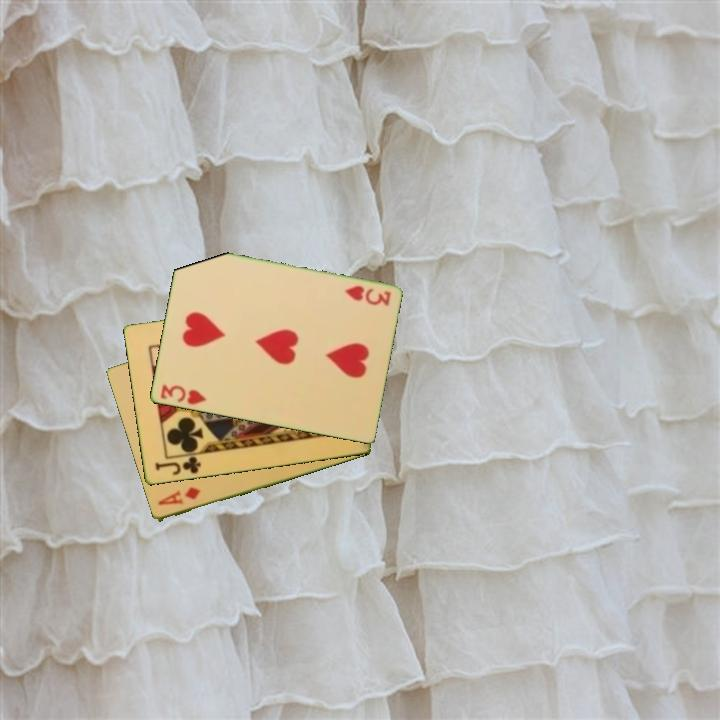3h: (156, 381, 209, 408), (341, 282, 393, 309)
Ad: (154, 483, 203, 509)
Jc: (151, 453, 204, 478)
